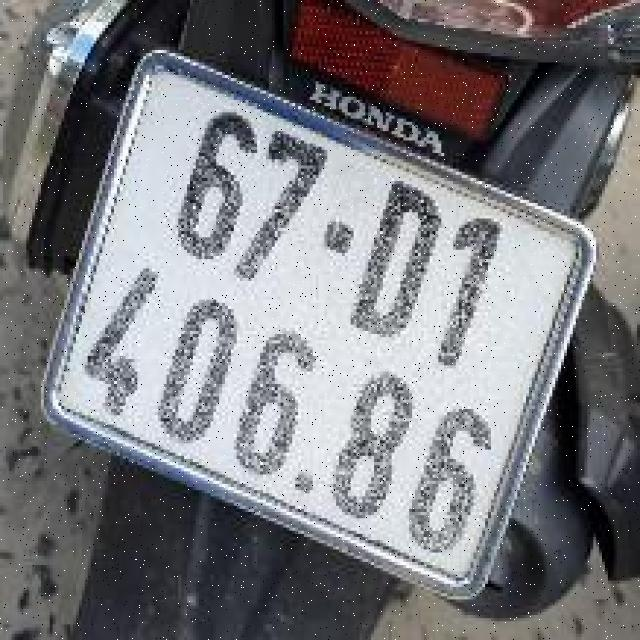0: (146, 282, 250, 460)
1: (411, 204, 512, 377)
4: (69, 246, 177, 428)
6: (162, 100, 270, 279), (395, 395, 501, 569), (225, 316, 326, 489)
7: (223, 121, 333, 304)
8: (320, 359, 423, 533)
D: (338, 170, 453, 353)
